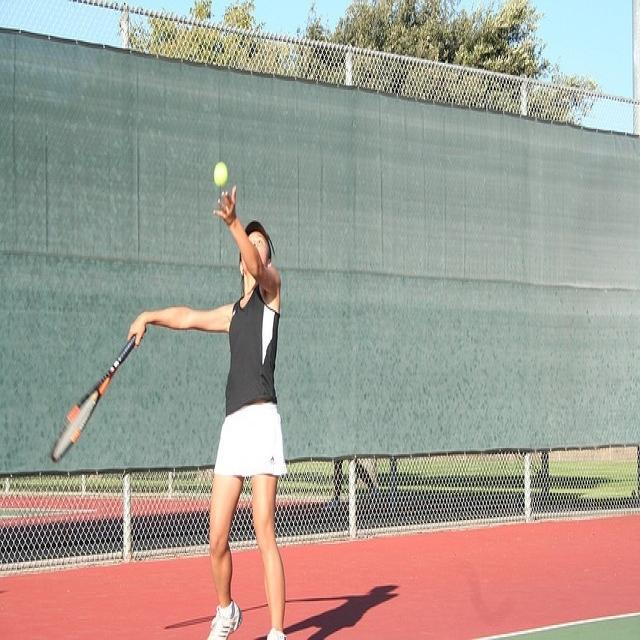ball: (213, 160, 228, 186)
